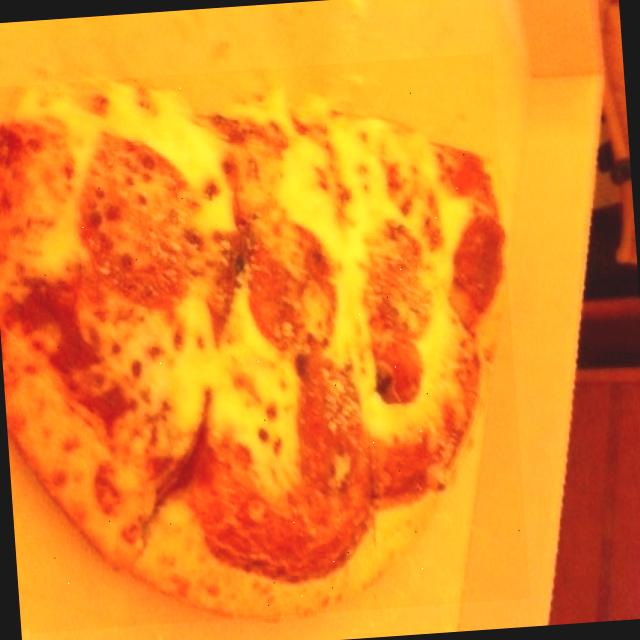pepperoni: (73, 138, 198, 312), (244, 198, 344, 356), (354, 230, 436, 404), (295, 346, 372, 510)
pizza: (0, 82, 505, 615)
